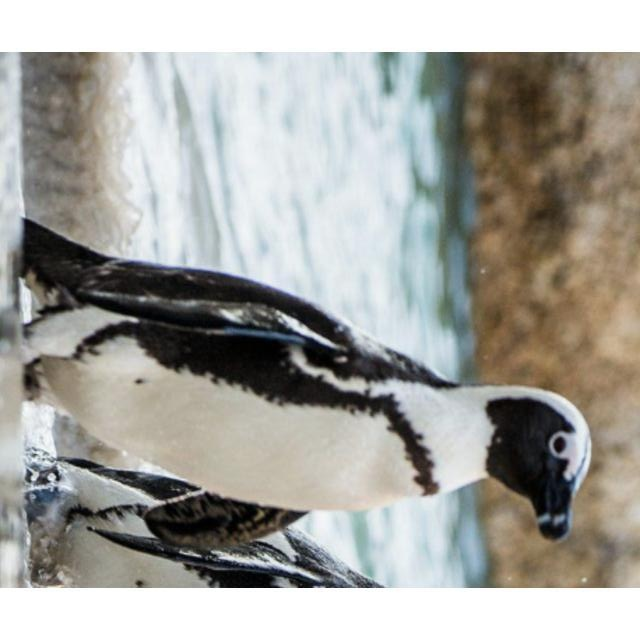penguin: (18, 215, 593, 550)
